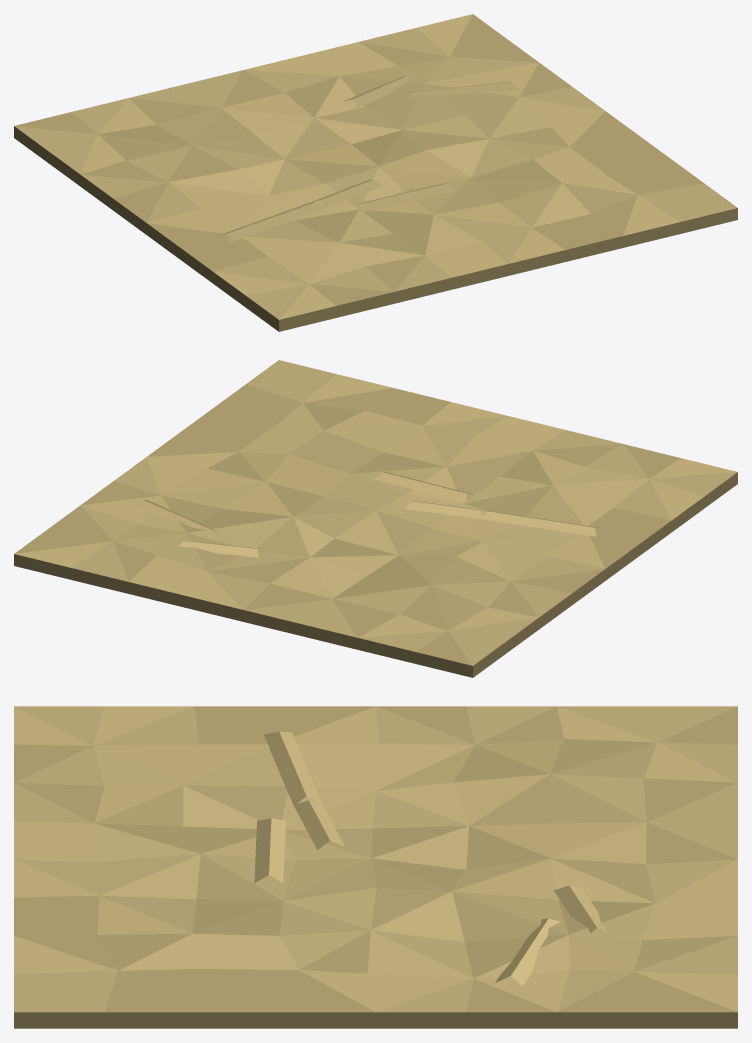
The model's file is ground_sand_c.glb.
3 views of the same model, one above another, from view 1: azimuth 30°, elevation 25°; view 2: azimuth 150°, elevation 25°; view 3: azimuth 270°, elevation 25° (orthographic). The views are drawn at different scales.
Visible parts, largest first — view 1: ground_sand_c; view 2: ground_sand_c; view 3: ground_sand_c.
Part boxes in pixels (x1,y1,x2,y2): ground_sand_c: (14,14,737,331); ground_sand_c: (14,360,737,677); ground_sand_c: (14,706,737,1028).
Size of the model in its own units: 4 by 0.135 by 4.
